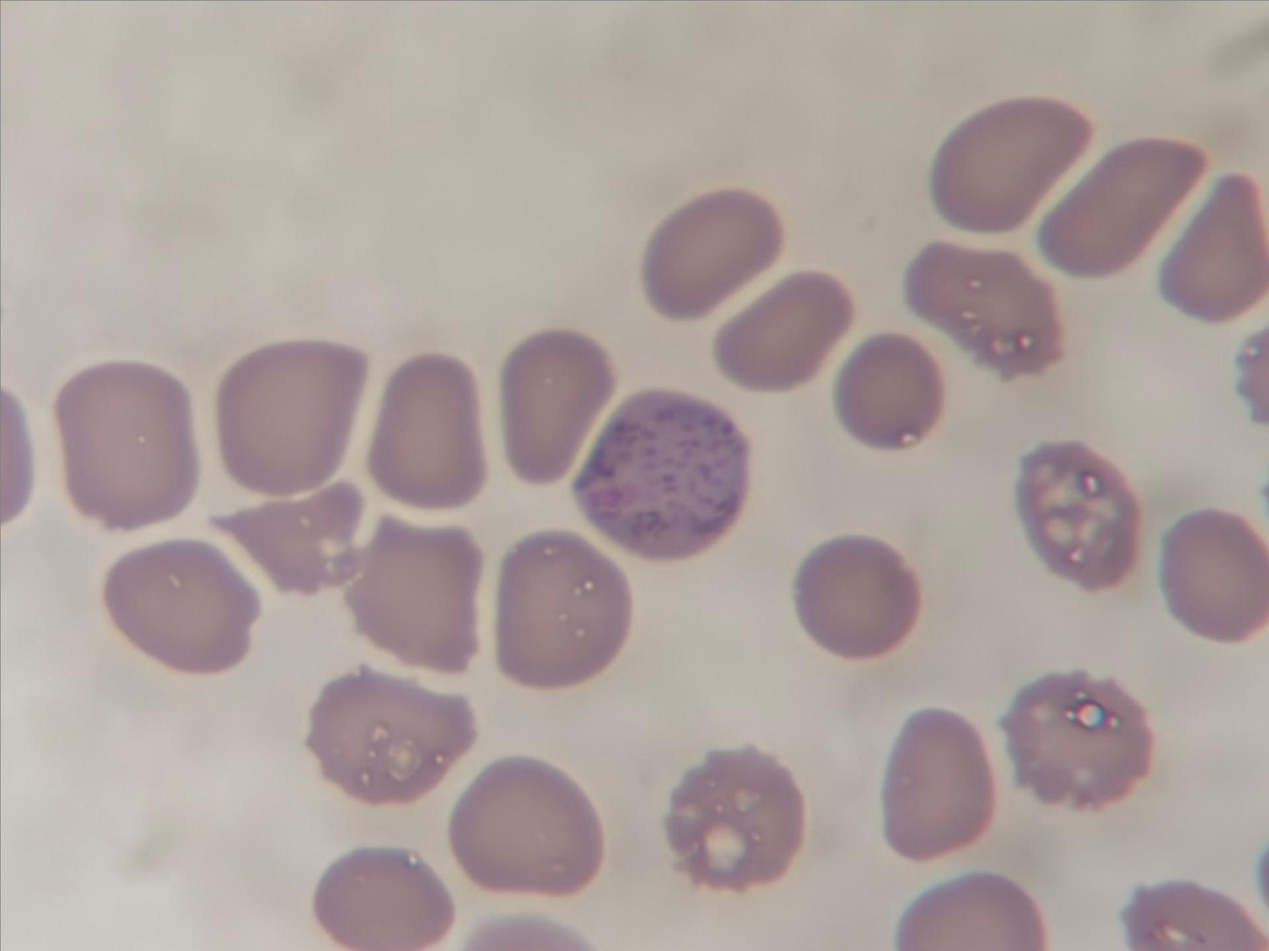Infected: (566, 391, 756, 559)
Uninfected: (55, 358, 198, 530), (930, 91, 1088, 243), (1040, 131, 1200, 280), (220, 340, 366, 498), (452, 754, 612, 897), (304, 670, 479, 800), (903, 239, 1063, 378), (99, 538, 257, 678), (348, 514, 486, 671), (641, 181, 793, 323), (670, 741, 814, 883), (494, 538, 626, 689), (1007, 666, 1144, 806), (494, 327, 612, 483), (714, 269, 859, 393), (886, 703, 1003, 856), (370, 351, 486, 505), (203, 481, 364, 590), (1018, 437, 1135, 586), (1152, 170, 1269, 318), (304, 842, 451, 951), (1159, 505, 1269, 646), (798, 534, 914, 662), (831, 336, 952, 448)
